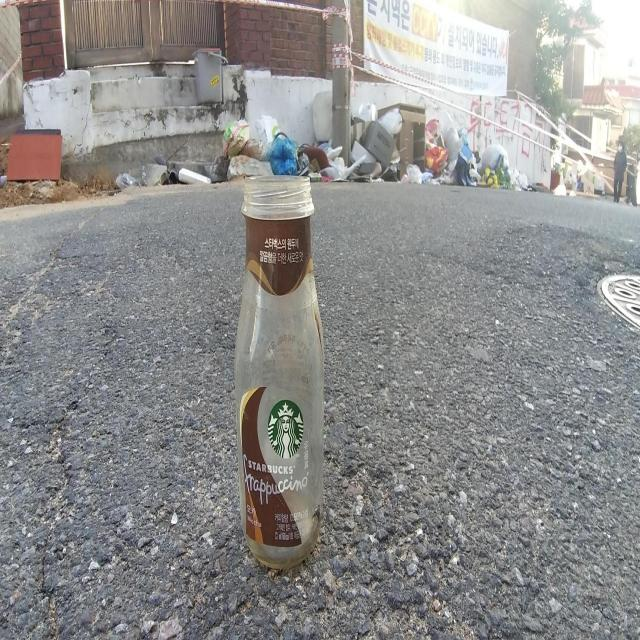glass: (234, 178, 324, 569)
